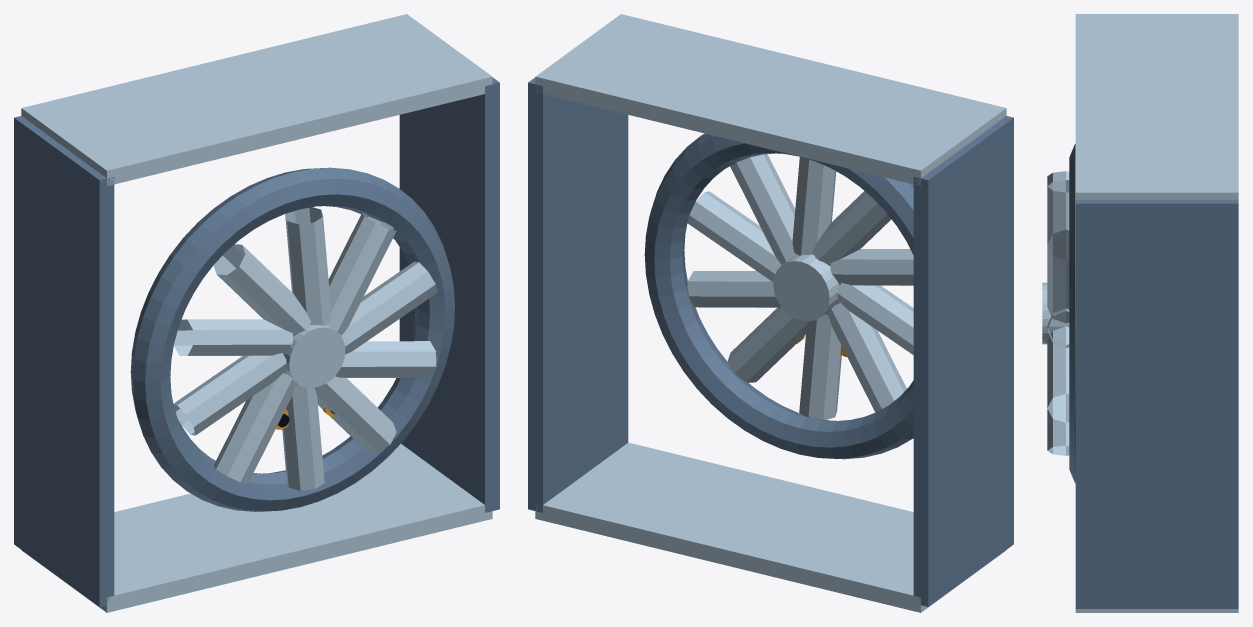
The model's file is 68_L89_ShelterEnvironmentalAirSupply.fbx.
3 renders of one model, left to right at view 1: azimuth 30°, elevation 25°; view 2: azimuth 150°, elevation 25°; view 3: azimuth 270°, elevation 25°, orthographic. The views are drawn at different scales.
Visible parts, largest first — view 1: L87_ShelterEnvironmentalAirSupply_Part_0000, L87_ShelterEnvironmentalAirSupply_Part_0001, L87_ShelterEnvironmentalAirSupply_Part_0002; view 2: L87_ShelterEnvironmentalAirSupply_Part_0000, L87_ShelterEnvironmentalAirSupply_Part_0001, L87_ShelterEnvironmentalAirSupply_Part_0002; view 3: L87_ShelterEnvironmentalAirSupply_Part_0000, L87_ShelterEnvironmentalAirSupply_Part_0001, L87_ShelterEnvironmentalAirSupply_Part_0002.
Part boxes in pixels (x1,y1,x2,y2): L87_ShelterEnvironmentalAirSupply_Part_0000: (14, 77, 499, 606); L87_ShelterEnvironmentalAirSupply_Part_0001: (21, 14, 492, 612); L87_ShelterEnvironmentalAirSupply_Part_0002: (173, 207, 437, 490); L87_ShelterEnvironmentalAirSupply_Part_0000: (528, 77, 1013, 606); L87_ShelterEnvironmentalAirSupply_Part_0001: (535, 14, 1006, 612); L87_ShelterEnvironmentalAirSupply_Part_0002: (687, 154, 913, 419); L87_ShelterEnvironmentalAirSupply_Part_0000: (1069, 143, 1238, 608); L87_ShelterEnvironmentalAirSupply_Part_0001: (1075, 14, 1238, 612); L87_ShelterEnvironmentalAirSupply_Part_0002: (1042, 171, 1069, 455).
Bounding box in the file's own units: 270 × 285 × 120.
